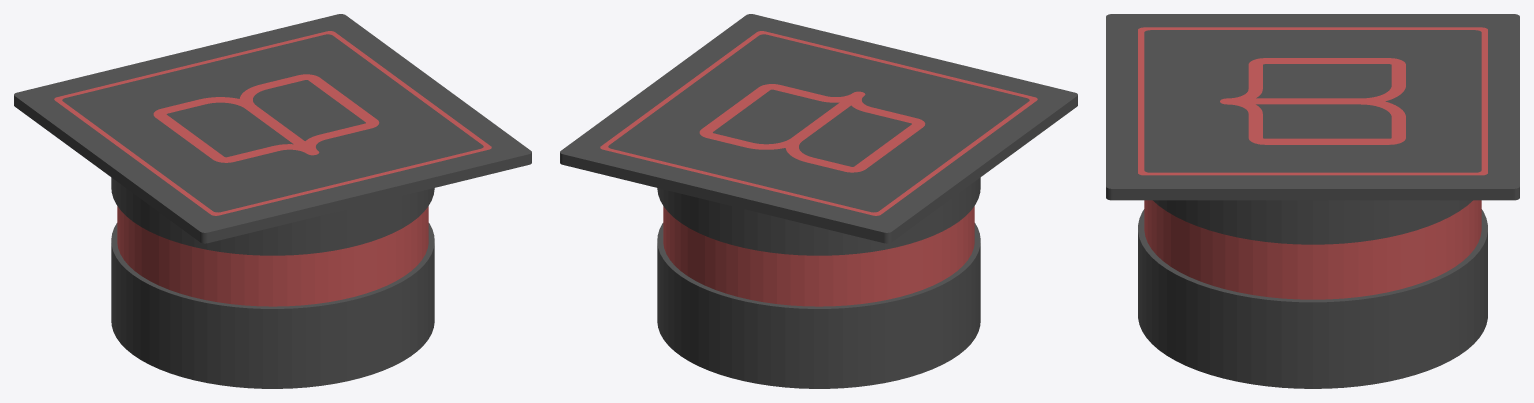
Rendered from bomboniera-lettere-facolta-montato.glb.
3 renders of one model, left to right at view 1: azimuth 30°, elevation 25°; view 2: azimuth 150°, elevation 25°; view 3: azimuth 270°, elevation 25°, orthographic. The views are drawn at different scales.
Visible parts, largest first — view 1: struttura_coperchio, struttura_base, fascia, simbolo_intarsio, bordo; view 2: struttura_coperchio, struttura_base, fascia, simbolo_intarsio, bordo; view 3: struttura_coperchio, struttura_base, fascia, simbolo_intarsio, bordo.
Boxes of the visible parts, bbox=[...] form: struttura_coperchio: bbox=[14, 14, 531, 255]; struttura_base: bbox=[111, 223, 434, 388]; fascia: bbox=[117, 206, 428, 306]; simbolo_intarsio: bbox=[153, 74, 379, 162]; bordo: bbox=[54, 31, 491, 215]; struttura_coperchio: bbox=[560, 14, 1077, 255]; struttura_base: bbox=[657, 223, 980, 388]; fascia: bbox=[663, 206, 974, 306]; simbolo_intarsio: bbox=[699, 84, 925, 172]; bordo: bbox=[600, 31, 1037, 215]; struttura_coperchio: bbox=[1106, 14, 1519, 244]; struttura_base: bbox=[1138, 209, 1487, 388]; fascia: bbox=[1144, 200, 1481, 299]; simbolo_intarsio: bbox=[1220, 58, 1405, 144]; bordo: bbox=[1138, 27, 1487, 175].
Bounding box in the file's own units: 0.065 × 0.037 × 0.065.
